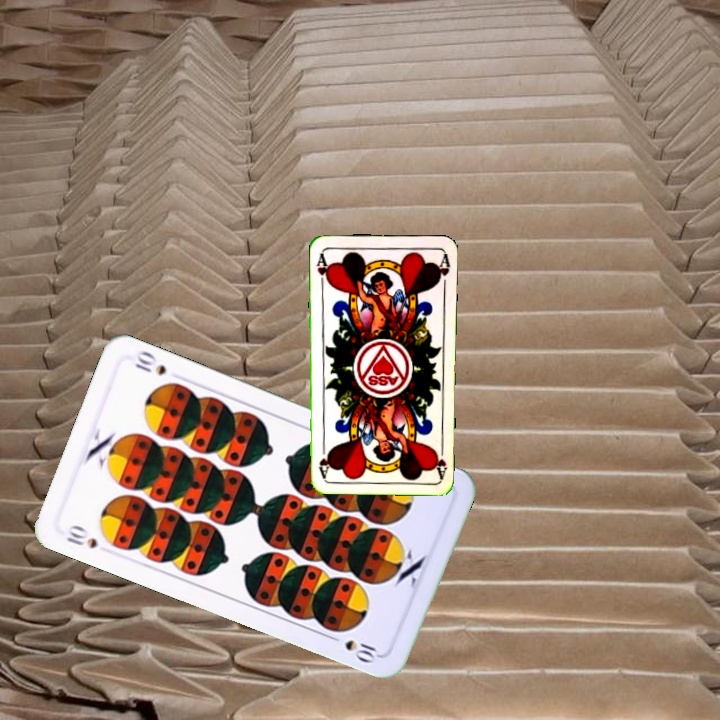HA: (312, 249, 332, 289), (430, 439, 450, 479)
S10: (62, 521, 100, 551)
